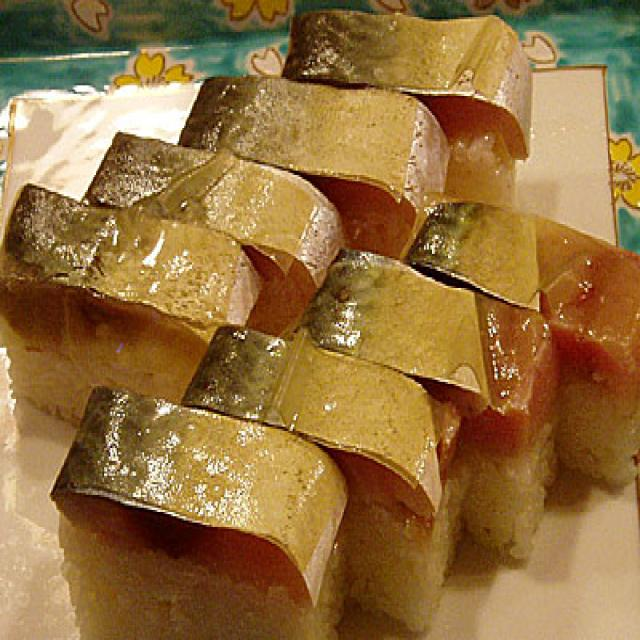寿司卷物: (0, 10, 625, 640)
